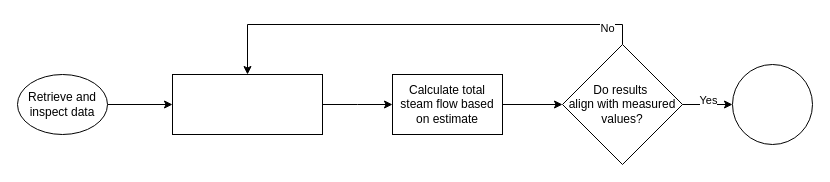
The diagram is 830 pixels wide and 182 high, and some of its shapes have lost their labels. Each missing label, with the centre of its shape:
Can begin Reservoir Modelling: point 772,104
Estimate contribution and dryness for each well: point 247,104
